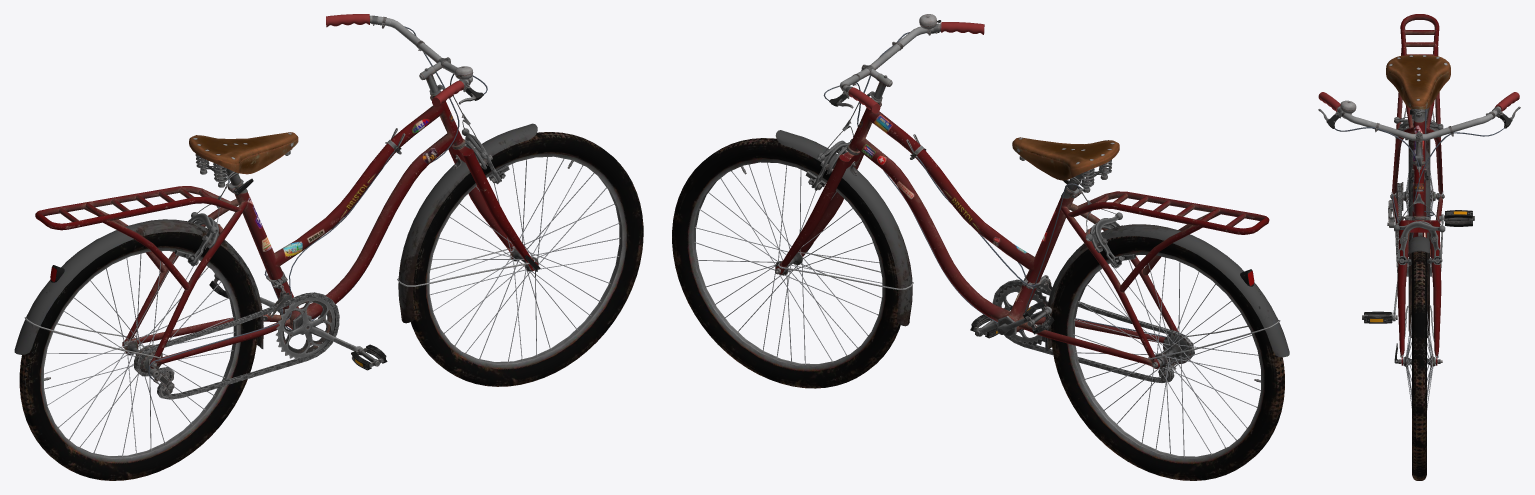
The model's file is bicycle.glb.
3 renders of one model, left to right at view 1: azimuth 30°, elevation 25°; view 2: azimuth 150°, elevation 25°; view 3: azimuth 270°, elevation 25°, orthographic. The views are drawn at different scales.
Visible parts, largest first — view 1: rama_low; view 2: rama_low; view 3: rama_low.
Boxes of the visible parts, box(x1,y1,x2,y2) form: rama_low: box(14, 14, 643, 480); rama_low: box(672, 14, 1289, 480); rama_low: box(1318, 14, 1520, 480).
Size of the model in its own units: 906 by 511 by 290.
Materials: 7 (7 with a texture image).
